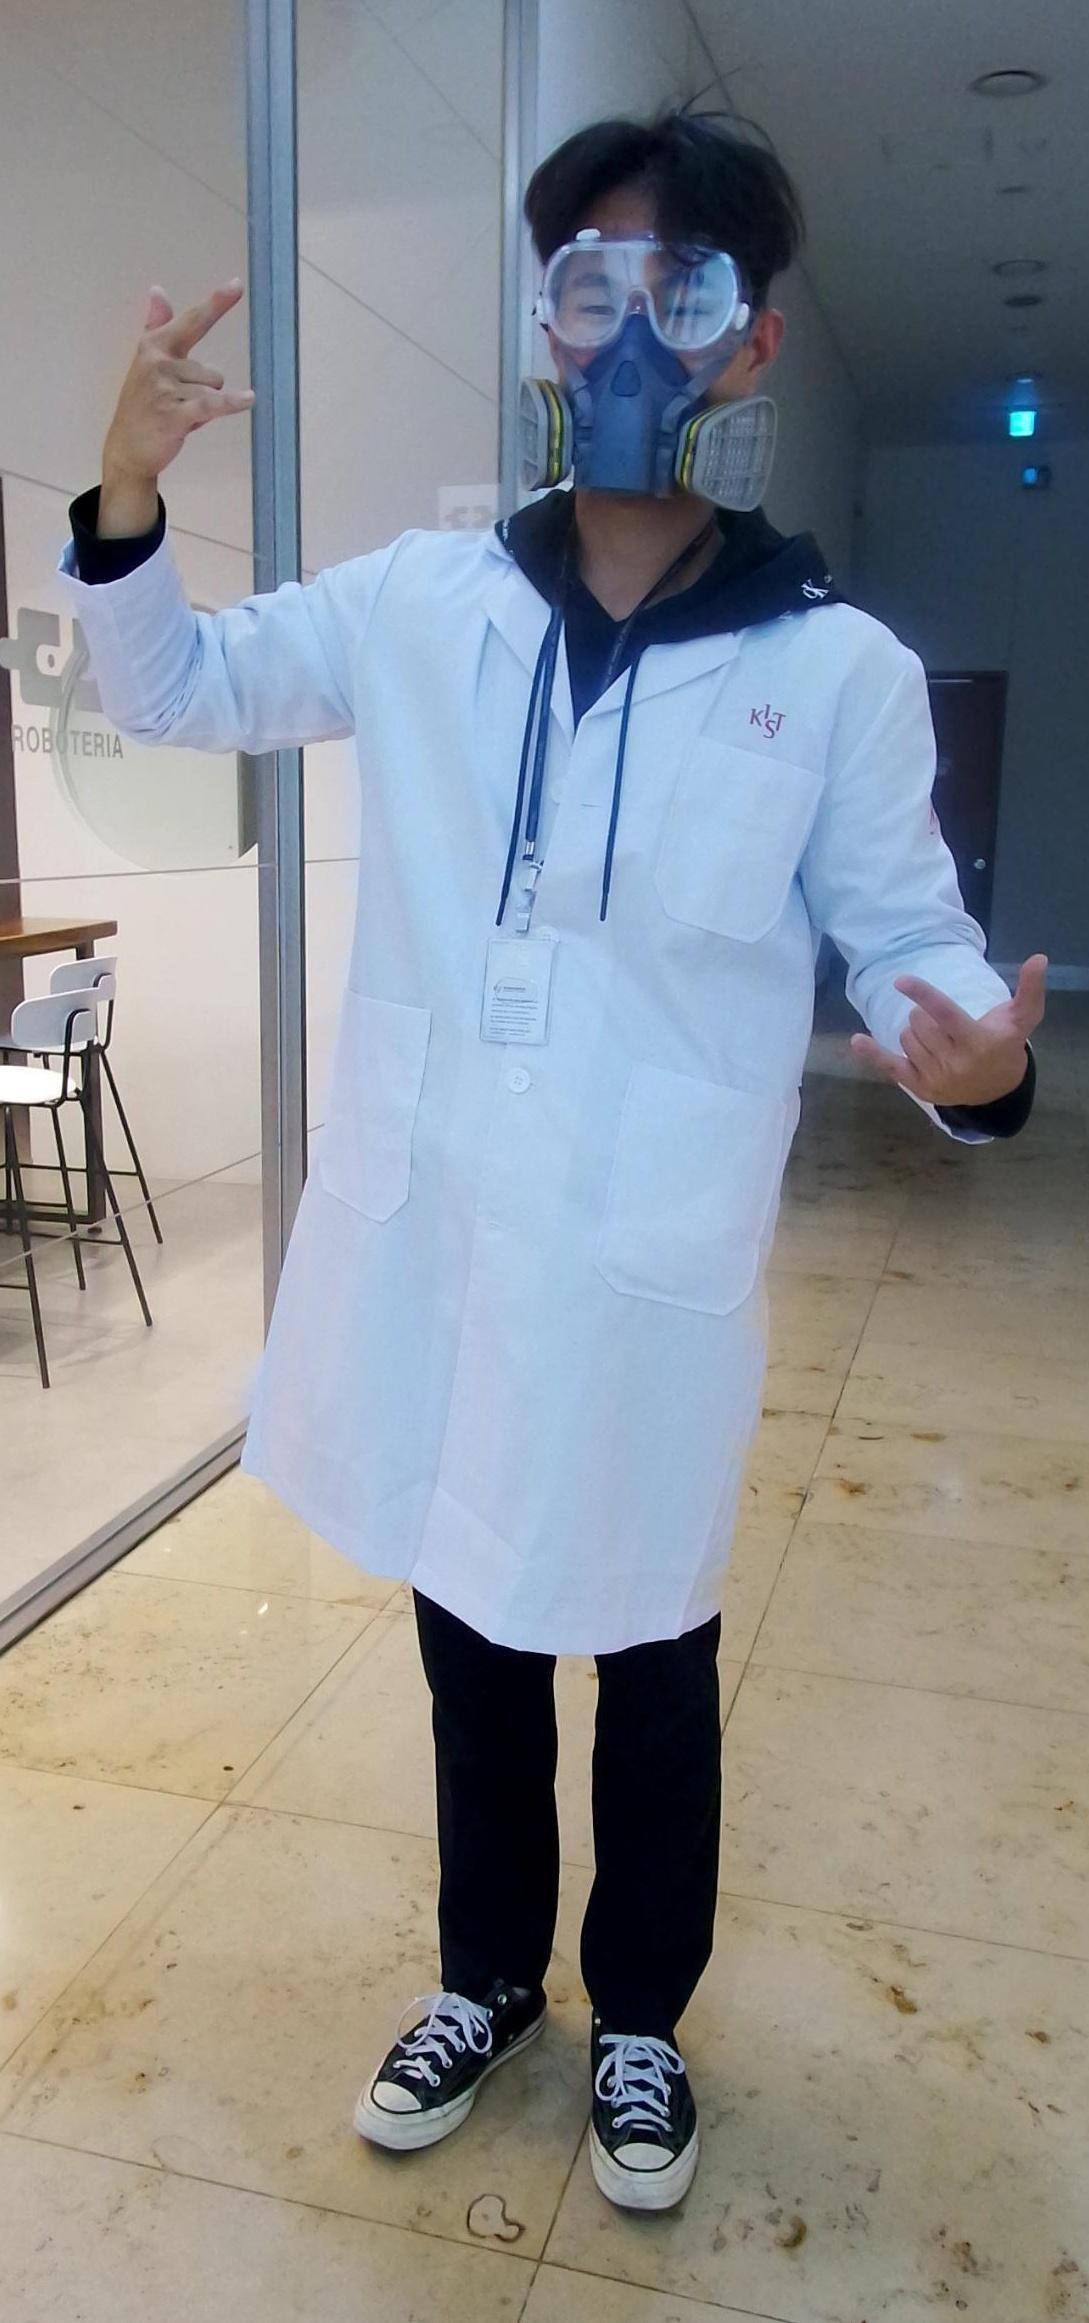lab_coat: (271, 539, 850, 1612)
